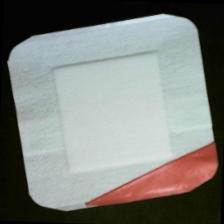Dressing: (2, 6, 224, 219)
Red_T: (84, 133, 223, 217)
